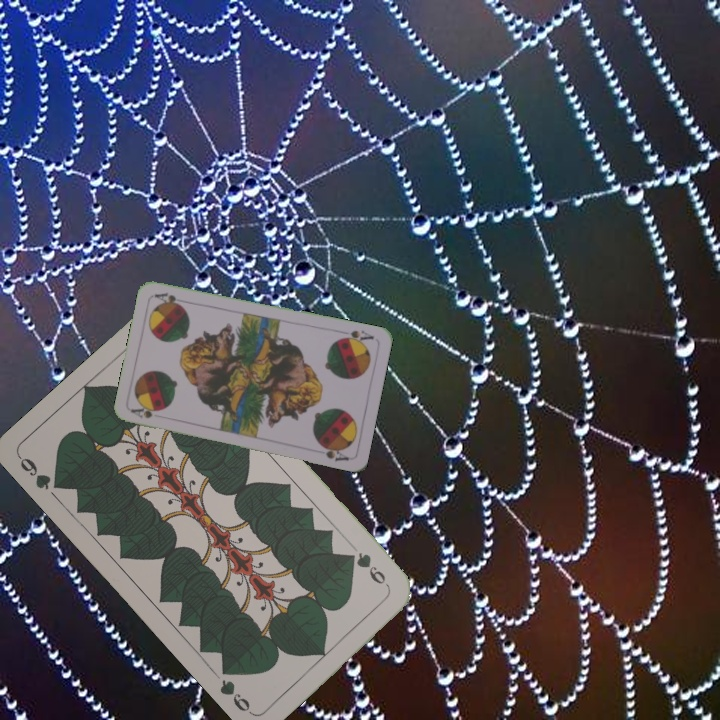G9: (15, 452, 67, 492), (343, 548, 392, 590)
SA: (335, 326, 376, 346), (128, 404, 161, 421)
